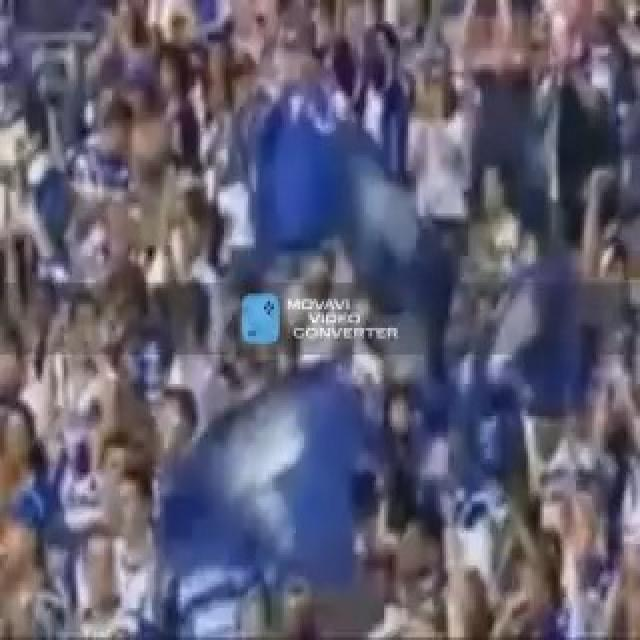non-voilence: (0, 0, 638, 637), (236, 288, 282, 347)
